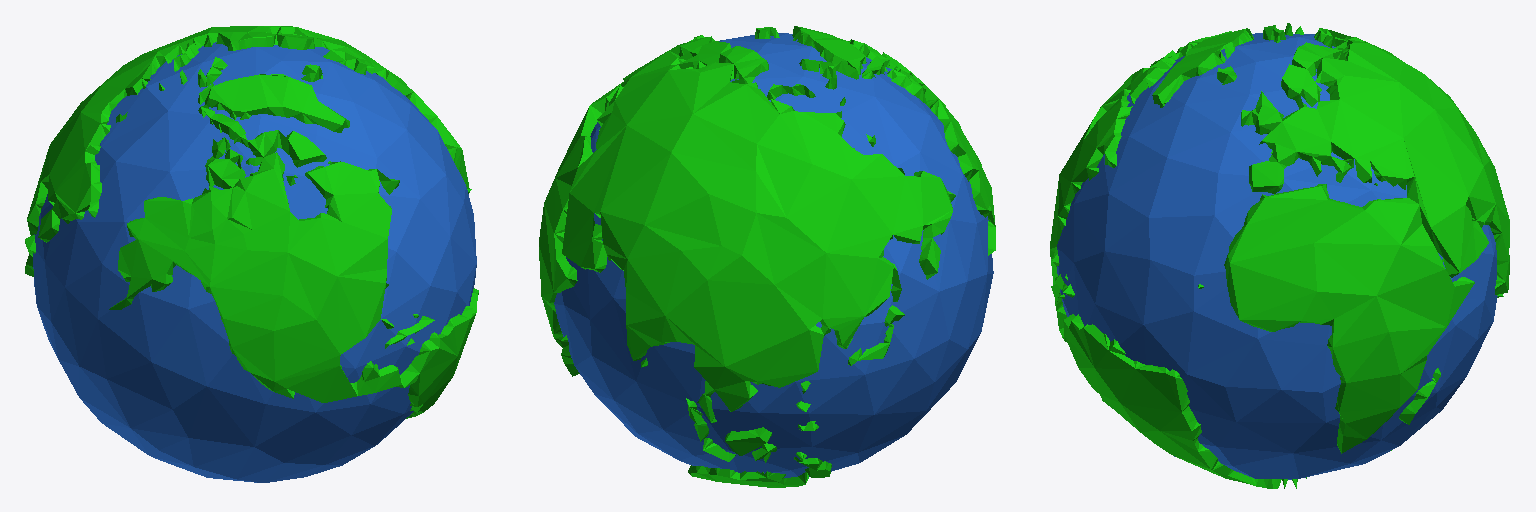
Rendered from LPEobj.obj.
The picture shows the model from 3 angles: view 1: azimuth 30°, elevation 25°; view 2: azimuth 150°, elevation 25°; view 3: azimuth 270°, elevation 25°; orthographic projection.
Parts seen in each view (by area): view 1: low_poly_earth_Sphere.001; view 2: low_poly_earth_Sphere.001; view 3: low_poly_earth_Sphere.001.
Boxes of the visible parts, <box> form: low_poly_earth_Sphere.001: <box>25,26,478,482</box>; low_poly_earth_Sphere.001: <box>539,26,995,487</box>; low_poly_earth_Sphere.001: <box>1050,23,1509,488</box>.
Bounding box in the file's own units: 1.95 × 2.01 × 1.99.